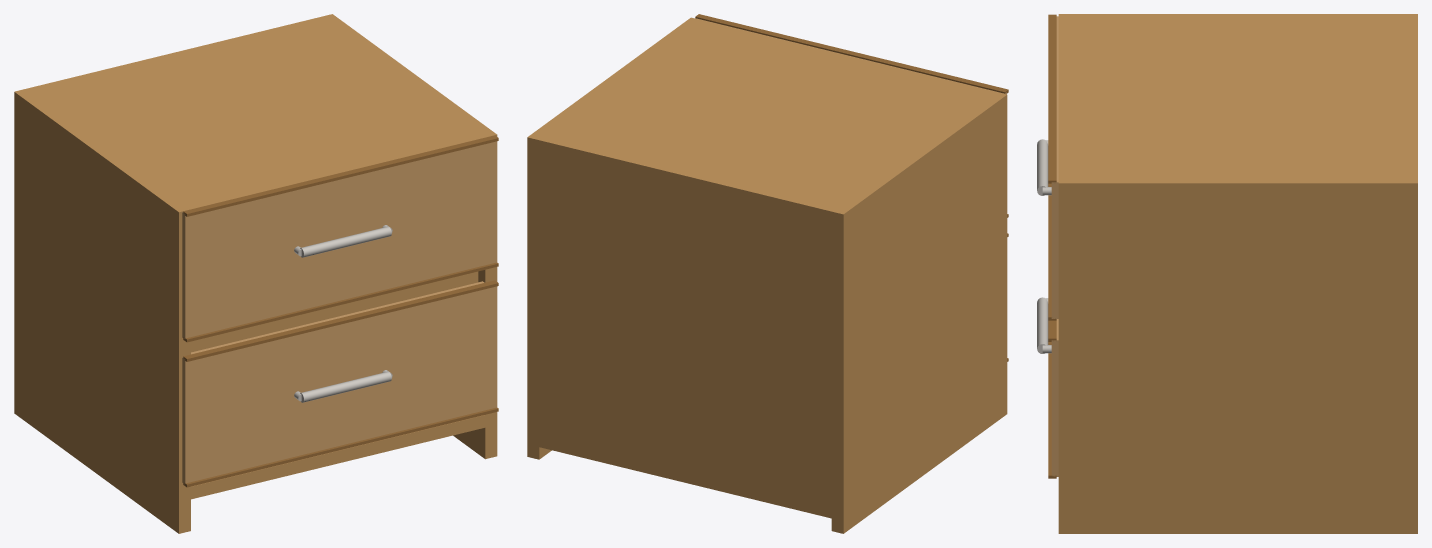
The model's file is ww_drawer.glb.
3 renders of one model, left to right at view 1: azimuth 30°, elevation 25°; view 2: azimuth 150°, elevation 25°; view 3: azimuth 270°, elevation 25°, orthographic. The views are drawn at different scales.
Bounding box in the file's own units: 0.58 × 0.5615 × 0.551.
